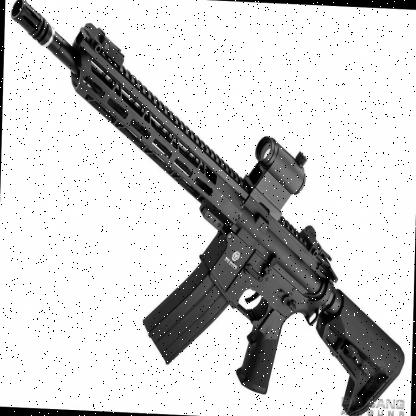rifle: (0, 0, 414, 416)
